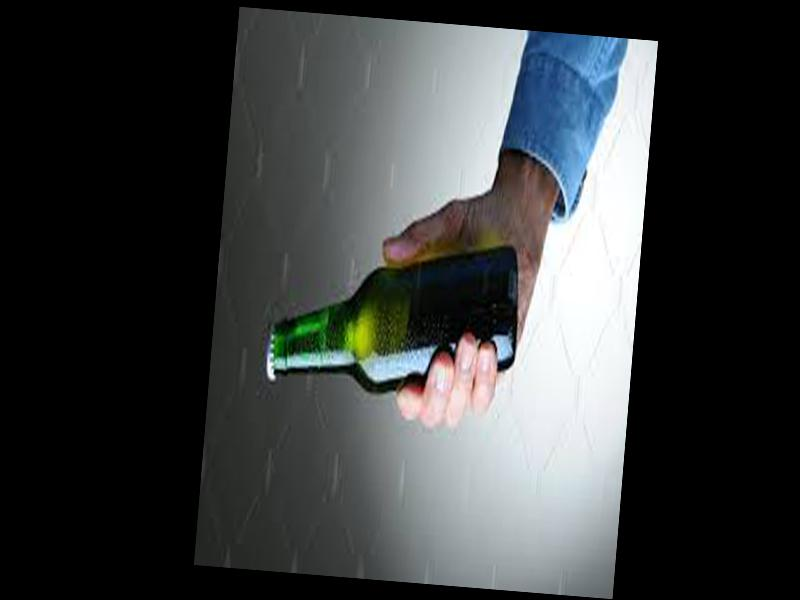Beer: (261, 224, 525, 403)
